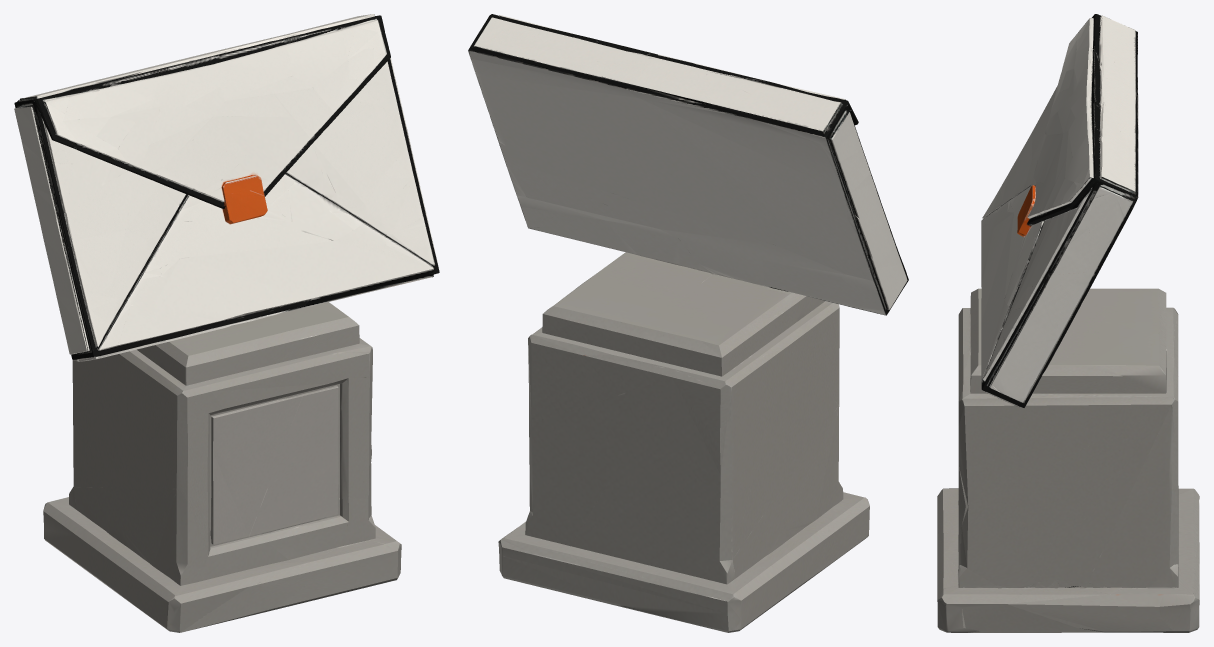
Rendered from mail.glb.
3 views of the same model, side by side, from view 1: azimuth 30°, elevation 25°; view 2: azimuth 150°, elevation 25°; view 3: azimuth 270°, elevation 25° (orthographic). The views are drawn at different scales.
Bounding box in the file's own units: 1.43 × 1.9 × 0.9385.
Materials: 1 (1 with a texture image).
